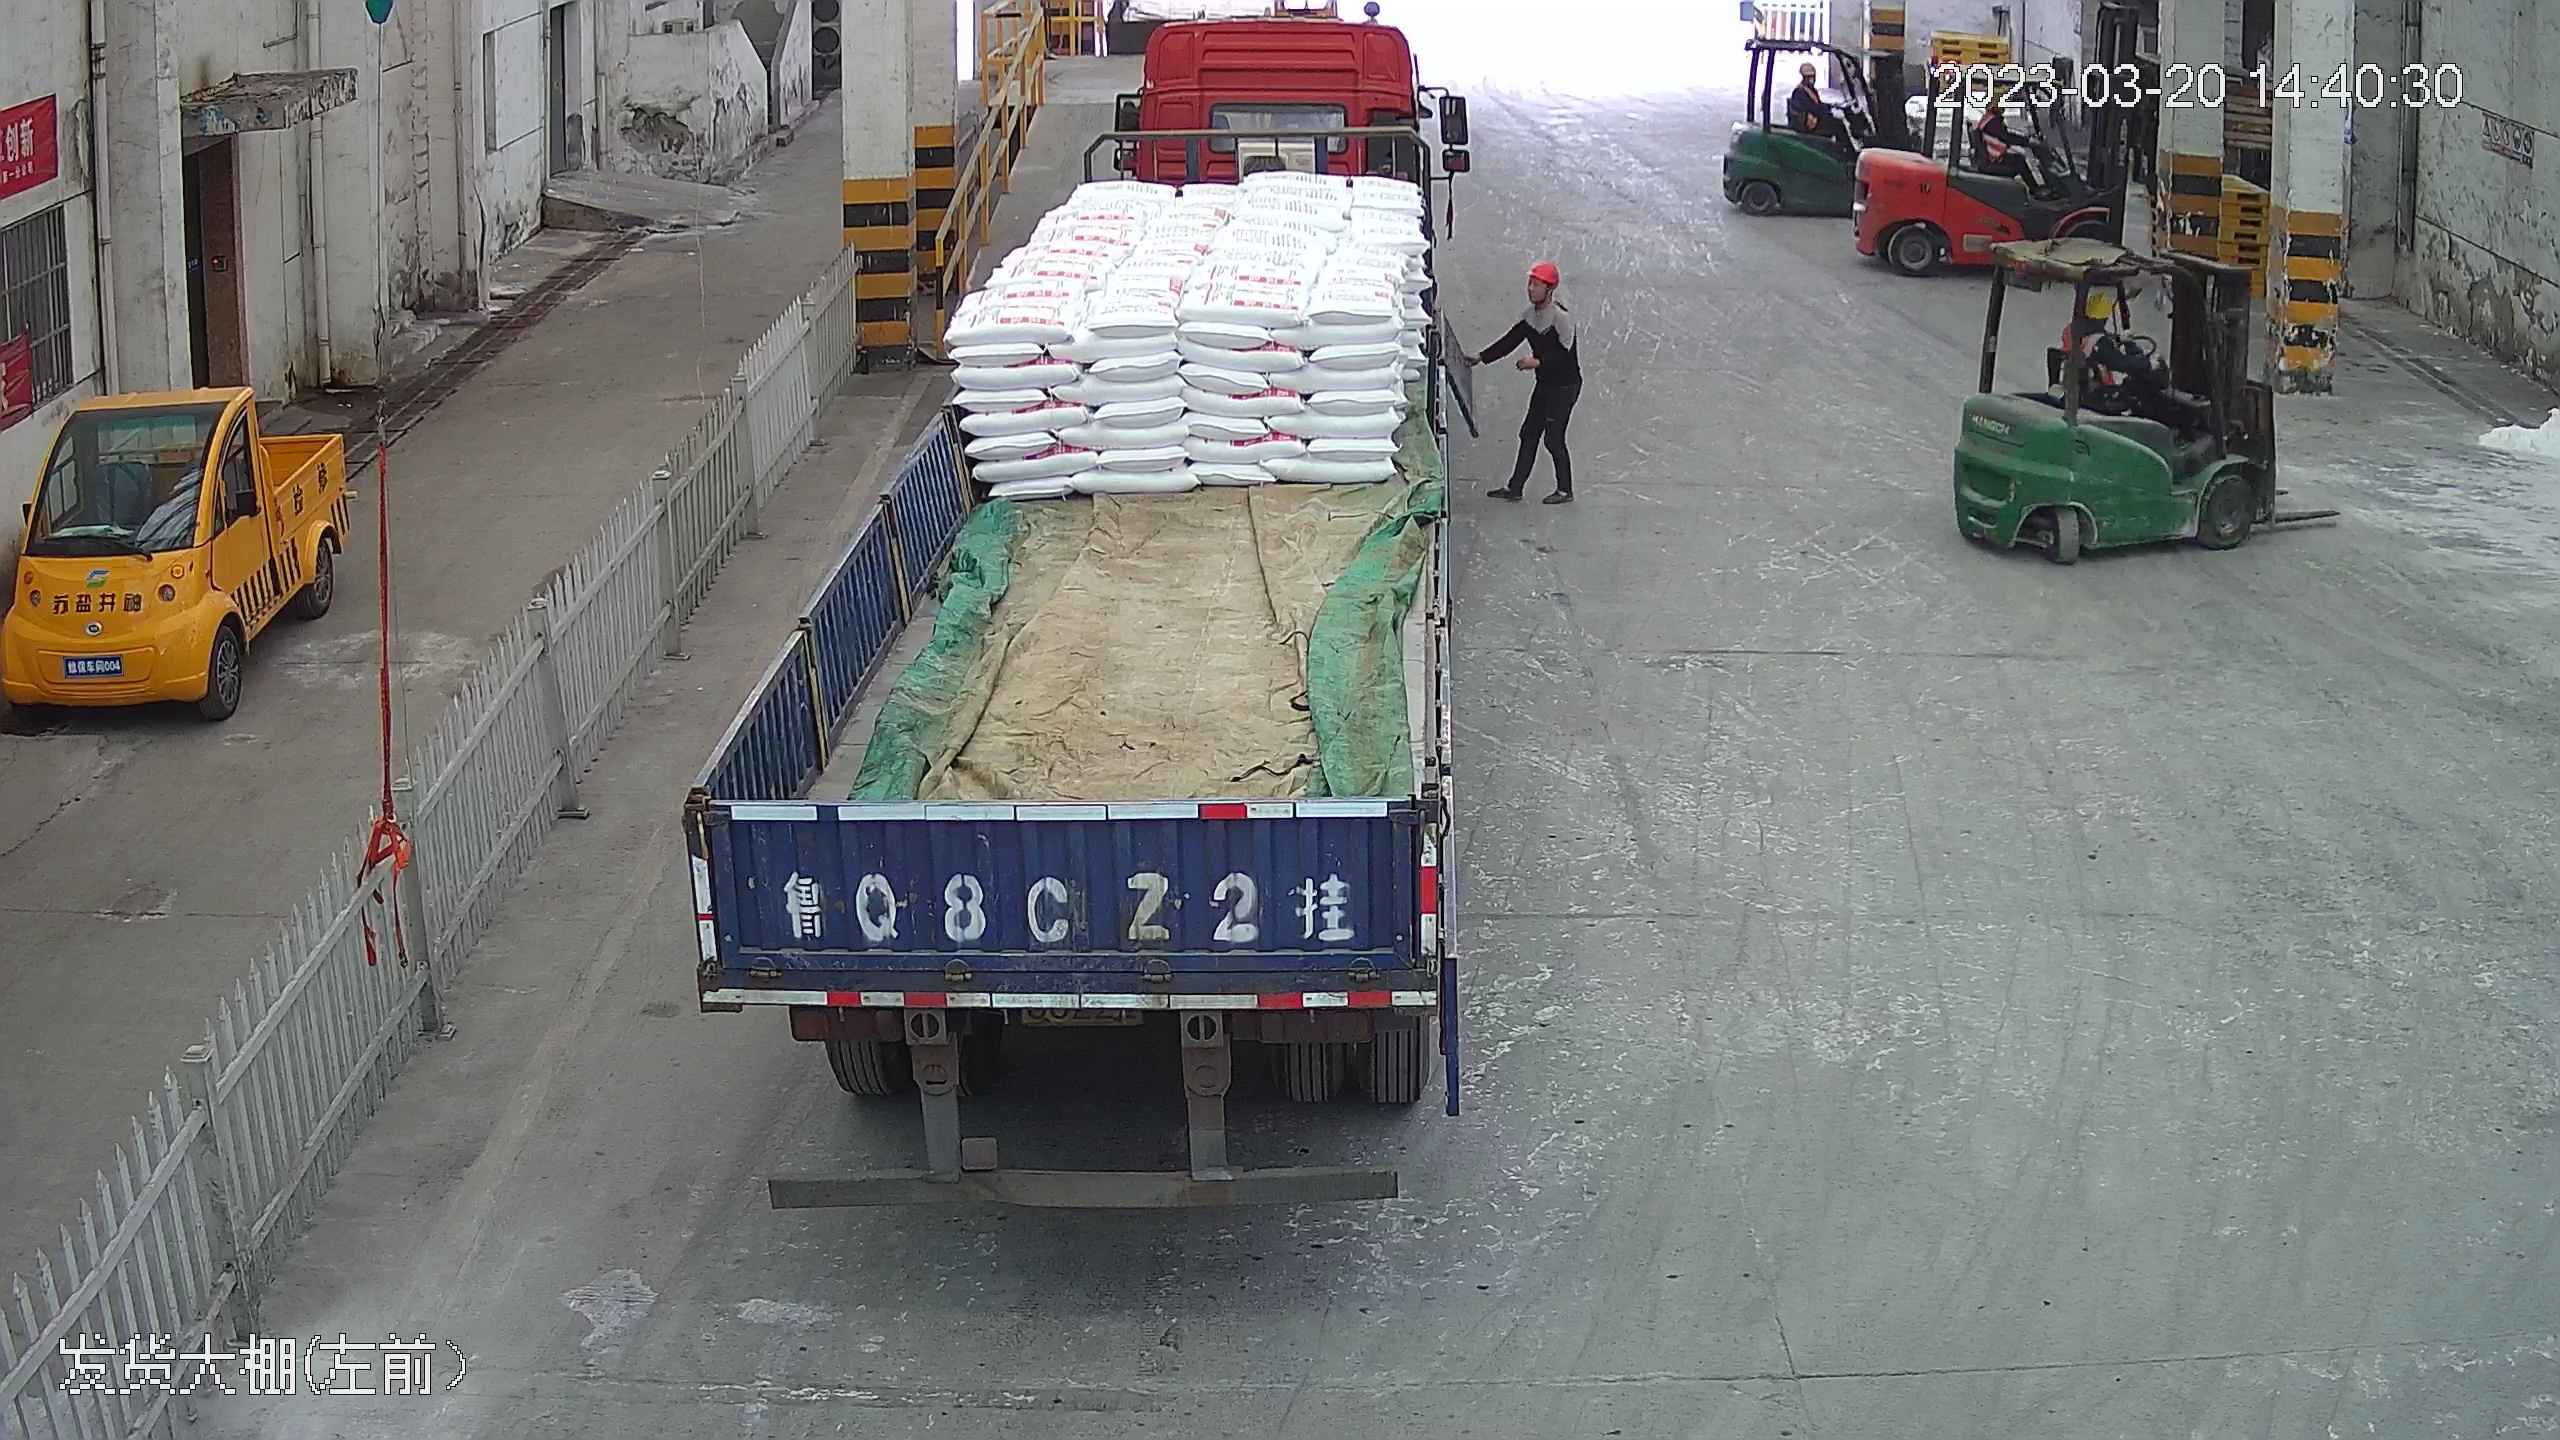head: (1511, 257, 1575, 342), (2067, 289, 2129, 362)
helmet: (1791, 60, 1822, 107), (2081, 289, 2118, 319), (1523, 257, 1560, 283), (1800, 62, 1816, 77)
people: (1470, 258, 1581, 512), (1972, 76, 2048, 185), (1794, 57, 1841, 134)
truck: (694, 1, 1473, 1200)
